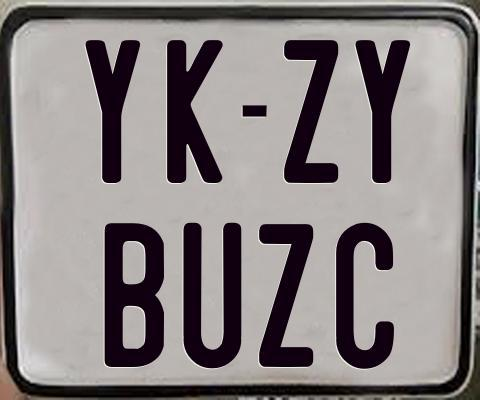B: (103, 222, 166, 368)
C: (335, 220, 398, 366)
K: (166, 38, 228, 187)
U: (180, 221, 244, 370)
Y: (355, 40, 416, 183), (84, 38, 142, 186)
Z: (282, 39, 338, 183), (257, 221, 311, 368)
